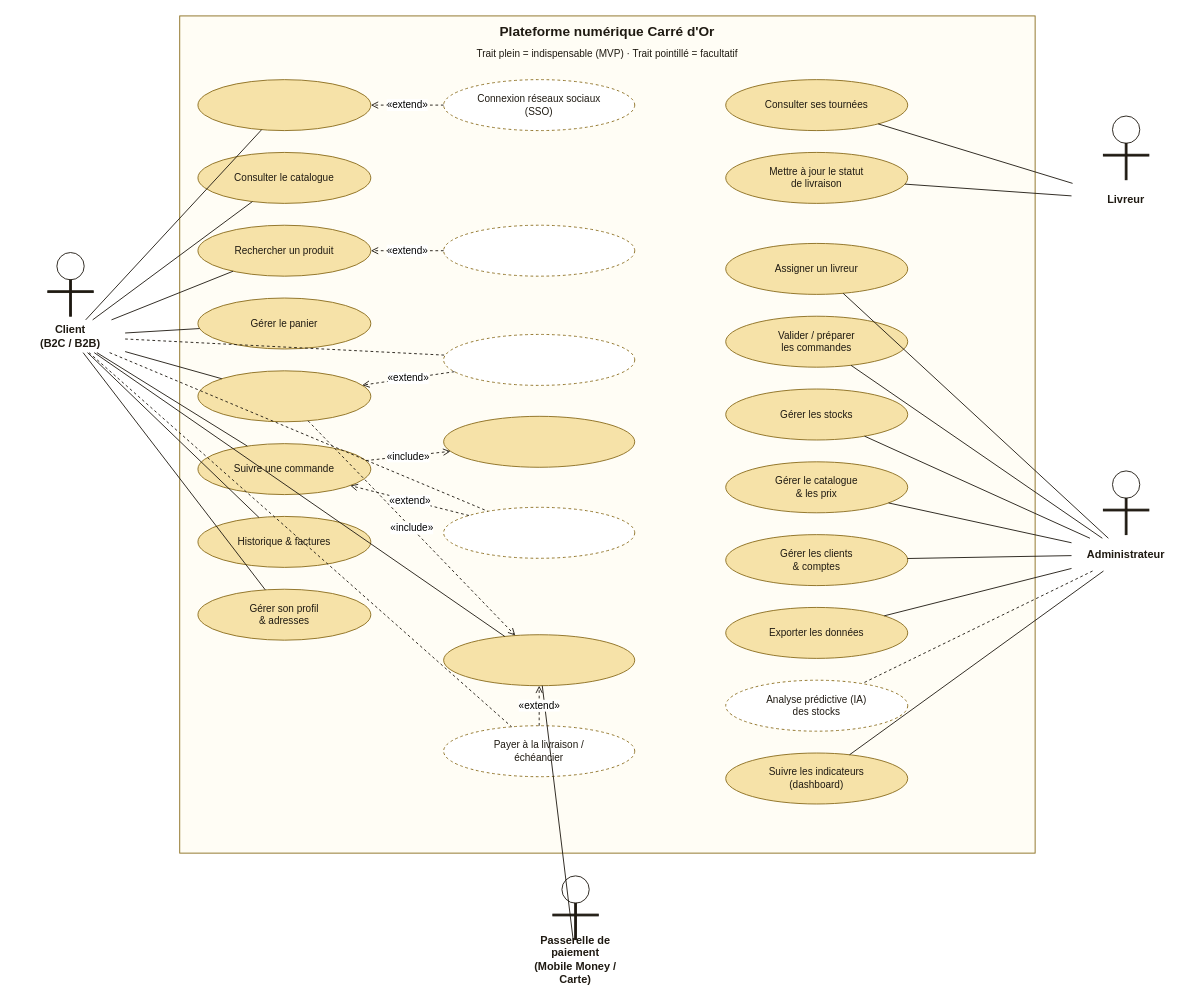
The diagram is 1196 pixels wide and 1002 high, and some of its shapes have lost their labels. Each missing label, with the box of its shape:
Géolocaliser le livreur sur la carte: (443, 506, 635, 558)
Passer une commande: (197, 370, 371, 422)
Payer en ligne (Mobile Money / carte): (443, 634, 635, 686)
Recevoir des notifications (SMS / e-mail / WhatsApp): (443, 415, 635, 467)
Recommander en 1 clic: (443, 334, 635, 385)
S'inscrire / se connecter (OTP, e-mail): (197, 79, 371, 131)
Scanner un code-barres: (443, 224, 635, 276)
